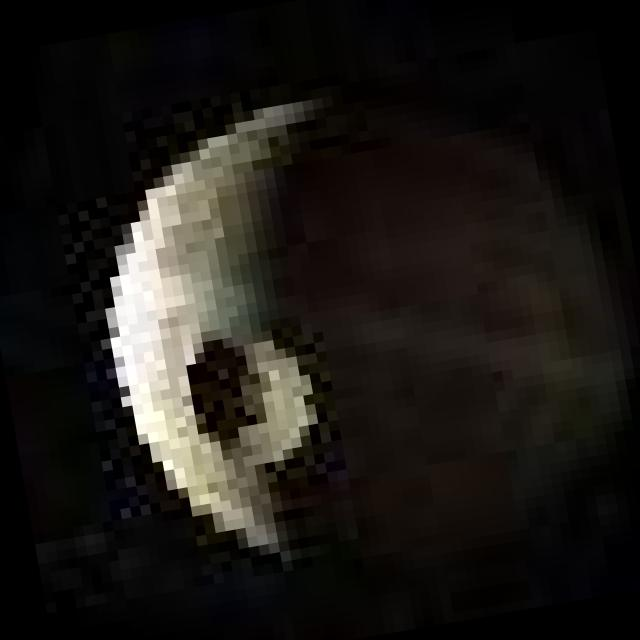Death Star: (74, 46, 640, 601)
